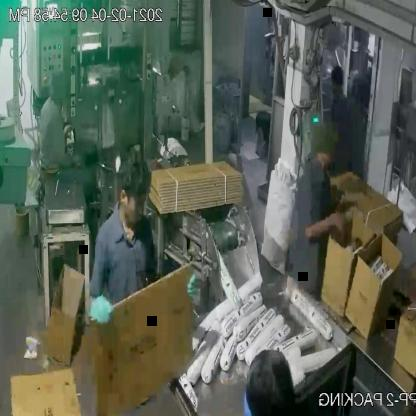glove: (72, 280, 122, 349)
no_glove: (299, 200, 348, 259)
